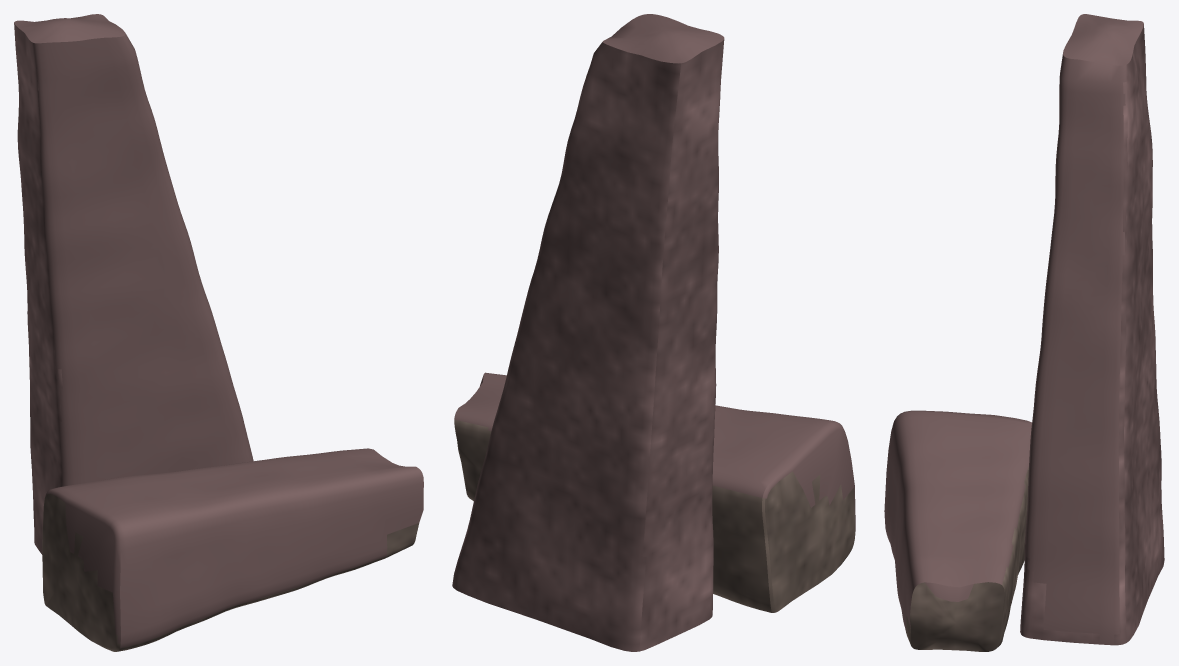
The model's file is TarHenge03.glb.
3 views of the same model, side by side, from view 1: azimuth 30°, elevation 25°; view 2: azimuth 150°, elevation 25°; view 3: azimuth 270°, elevation 25° (orthographic). The views are drawn at different scales.
Parts seen in each view (by area): view 1: TarHenge03; view 2: TarHenge03; view 3: TarHenge03.
Part boxes in pixels (box(x1,y1,x2,y2)): TarHenge03: box(14, 14, 423, 651); TarHenge03: box(452, 14, 855, 651); TarHenge03: box(884, 14, 1164, 651).
Size of the model in its own units: 3.21 by 5.03 by 2.42.
Materials: 2 (1 with a texture image).
